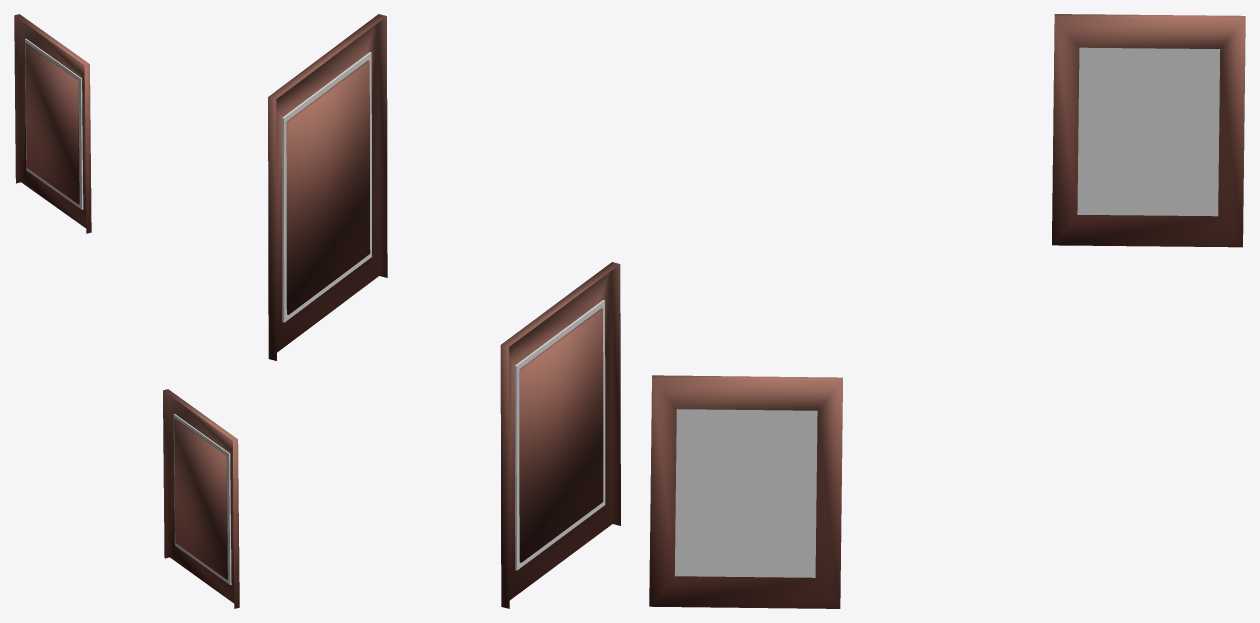
The model's file is mesh_2_wall_frames_003.fbx.
The picture shows the model from 3 angles, left to right: view 1: azimuth 30°, elevation 25°; view 2: azimuth 150°, elevation 25°; view 3: azimuth 270°, elevation 25°; orthographic projection. The views are drawn at different scales.
Visible parts, largest first — view 1: picture_frame_wall_2, picture_frame_wall_1; view 2: picture_frame_wall_1, picture_frame_wall_2; view 3: picture_frame_wall_2, picture_frame_wall_1.
Boxes of the visible parts, x1,y1,x2,y2 form: picture_frame_wall_2: [14, 14, 91, 233]; picture_frame_wall_1: [163, 389, 239, 608]; picture_frame_wall_1: [500, 262, 620, 608]; picture_frame_wall_2: [268, 14, 387, 360]; picture_frame_wall_2: [1052, 14, 1245, 247]; picture_frame_wall_1: [649, 375, 842, 608].
Size of the model in its own units: 3.42 by 221 by 202.
